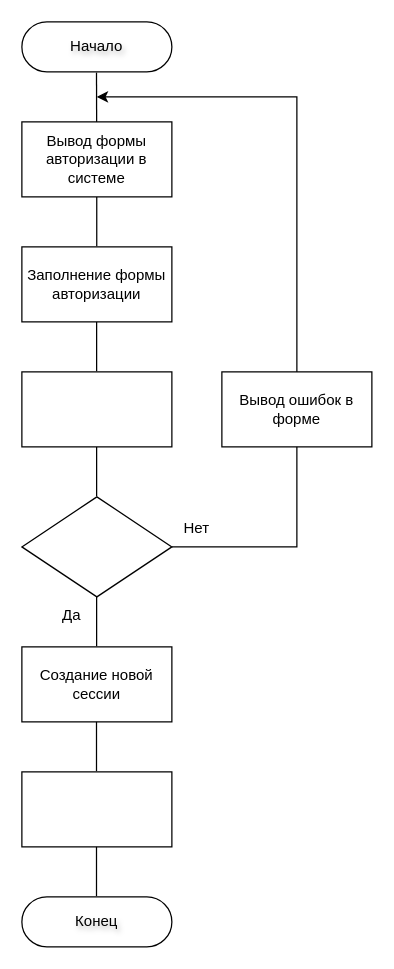
This 394x969 diagram has some shape labels left out. Here are the shapes that lost their labels. From the top down, the centre of each, then its label:
At (96,409): "Отправка формы".
At (96,546): "Форма валидна?".
At (96,809): "Перенаправление пользователя на главную страницу".
